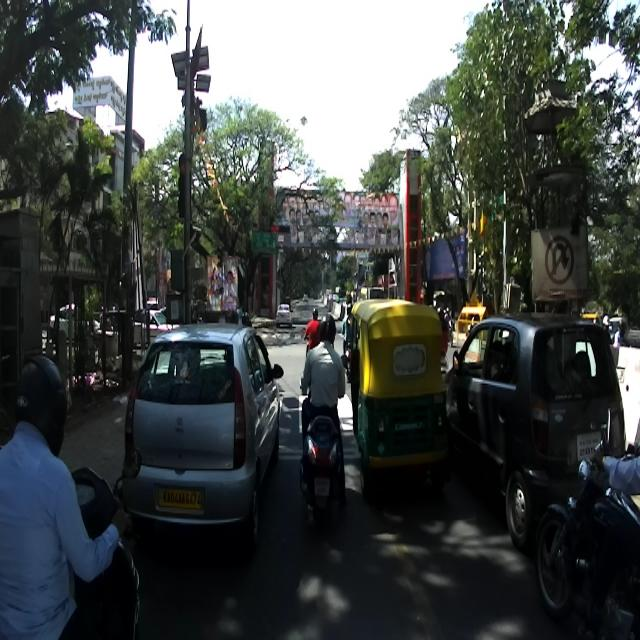Car_Hyundai: (442, 317, 626, 567)
Car_TATA: (120, 324, 284, 550)
autorickshaw: (348, 297, 449, 501)
motorcycle_bajaj: (534, 415, 640, 637)
scooter: (2, 445, 142, 639), (300, 351, 347, 524)
